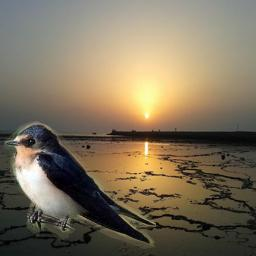Swallow: (4, 121, 156, 249)
